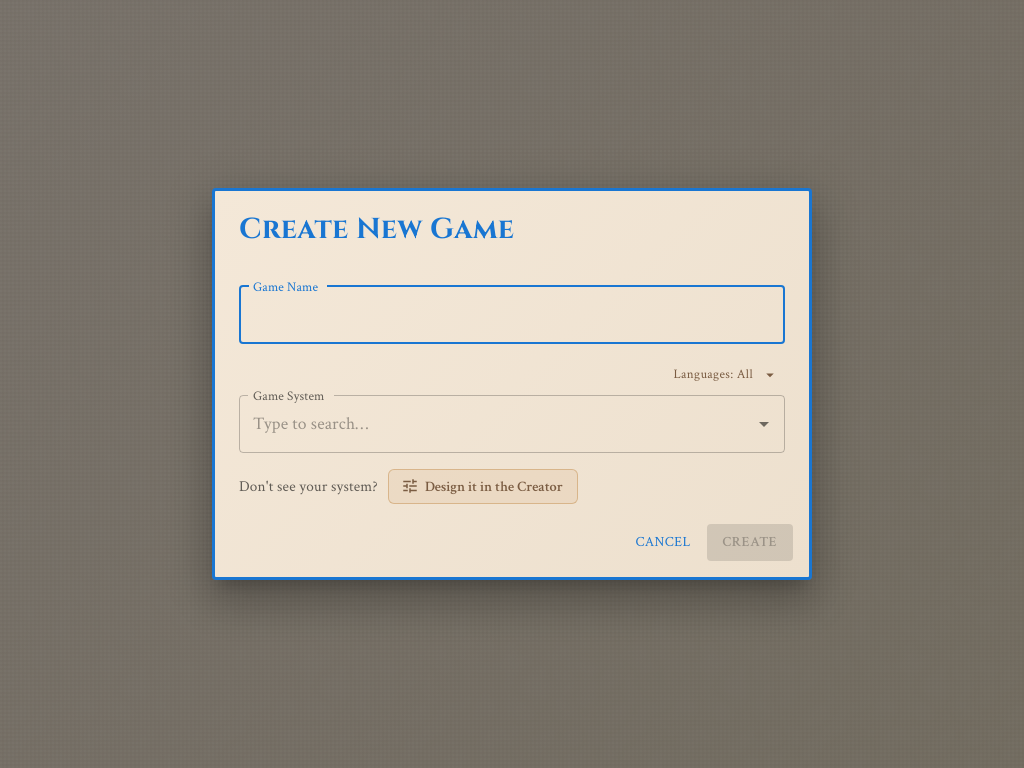
Test: CreateGameDialog sheet preview › a previewed template that leaves the list closes the preview
Step 1. Press the mouse on the dropdown labelled "Game System" → [497, 424], box 248,404 -> 746,444
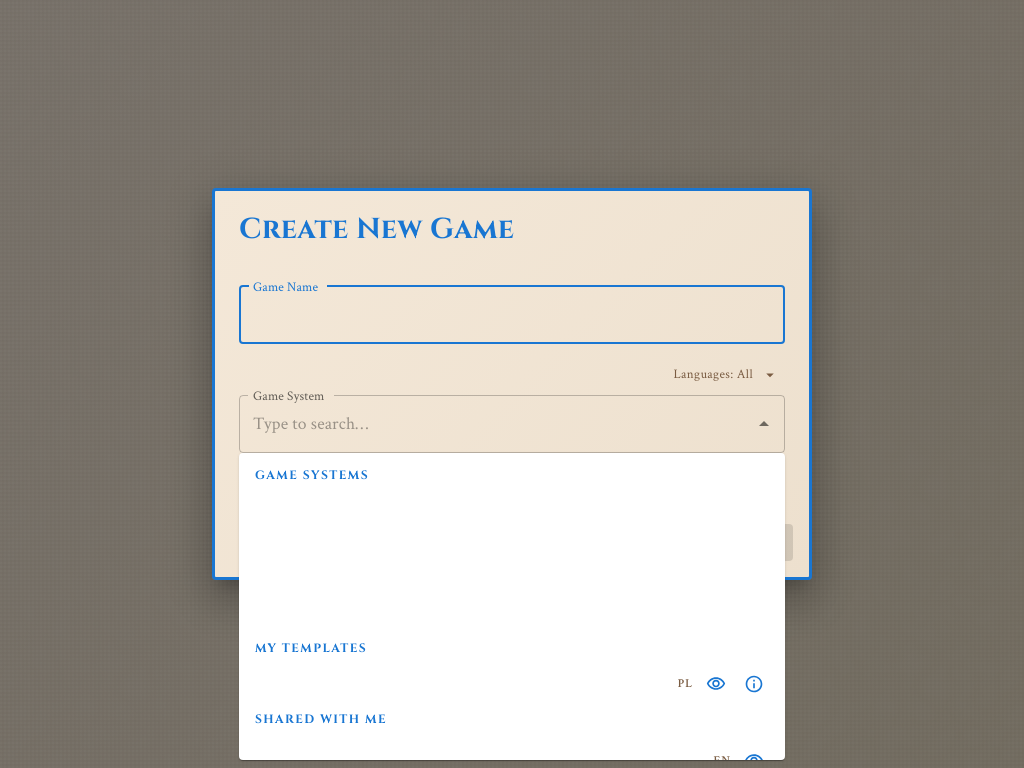
Step 2. Click the button with test id "VisibilityOutlinedIcon" → [716, 684], box 701,669 -> 731,699
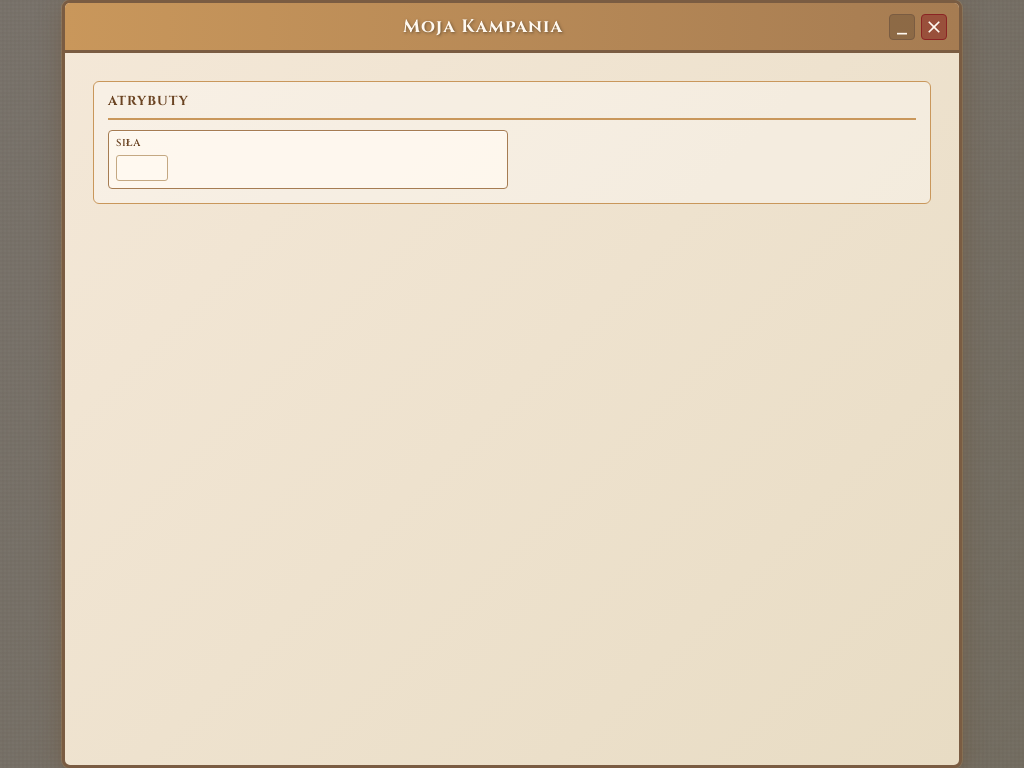
Result: the element with class "character-sheet-popup" is shown
